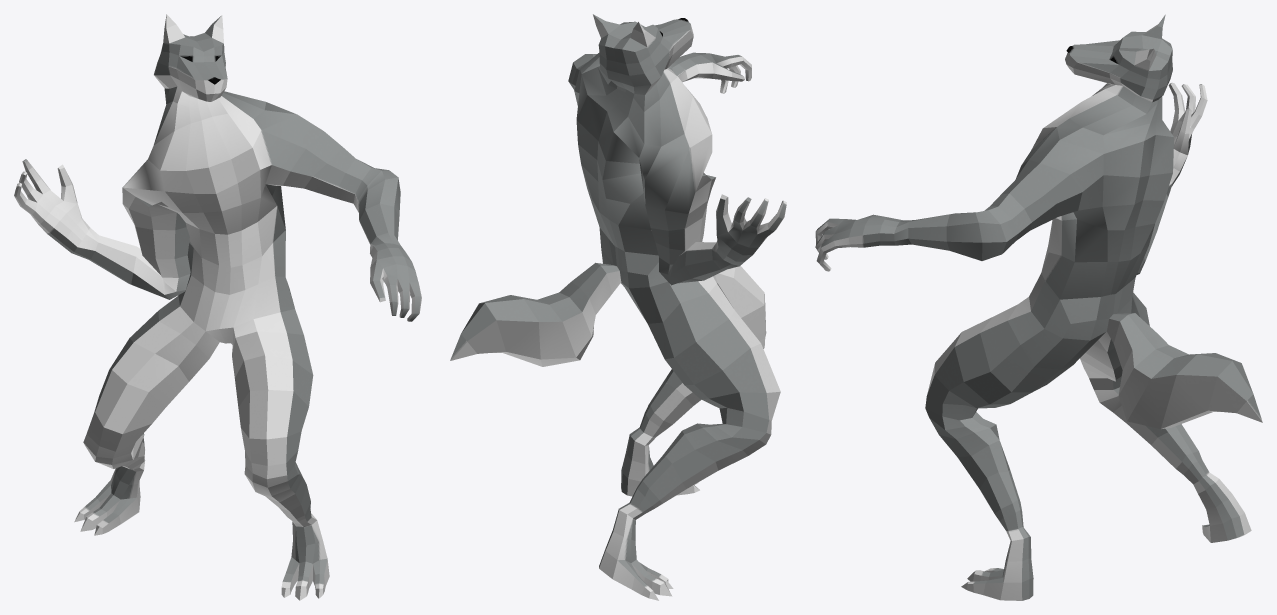
Rendered from WolfDead(7).obj.
3 renders of one model, left to right at view 1: azimuth 30°, elevation 25°; view 2: azimuth 150°, elevation 25°; view 3: azimuth 270°, elevation 25°, orthographic. The views are drawn at different scales.
Visible parts, largest first — view 1: Box001; view 2: Box001; view 3: Box001.
Boxes of the visible parts, left/top/right/bottom form: Box001: left=14, top=14, right=421, bottom=600; Box001: left=450, top=14, right=786, bottom=600; Box001: left=815, top=14, right=1262, bottom=600.
Bounding box in the file's own units: 83.78 × 144 × 107.
